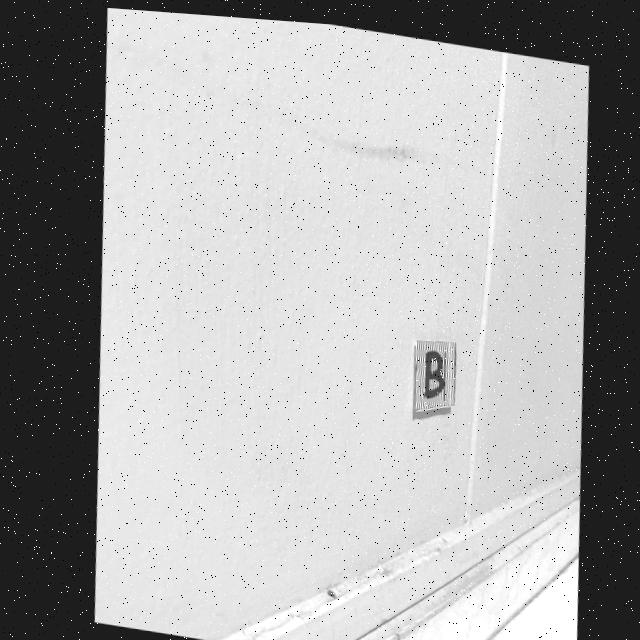B: (420, 344, 439, 392)
